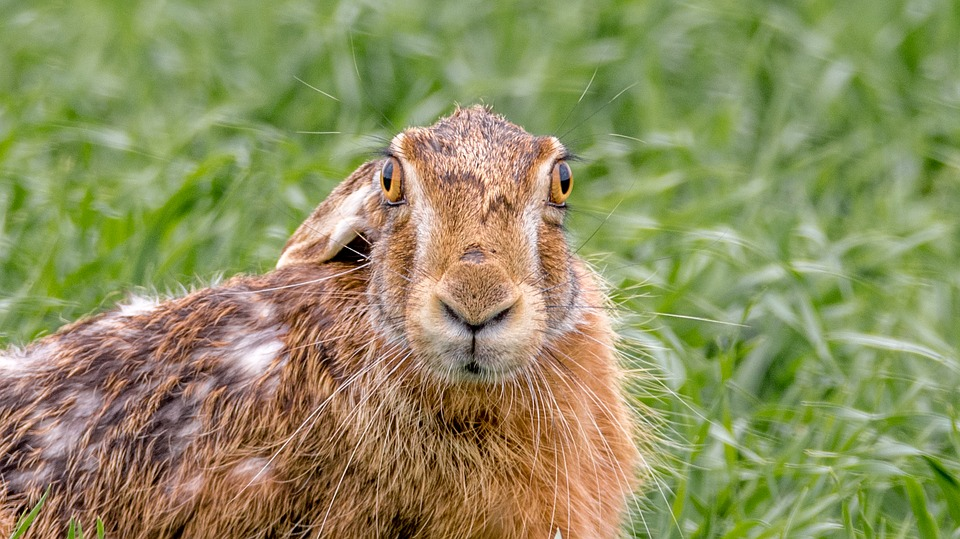bunny: (2, 91, 668, 539)
